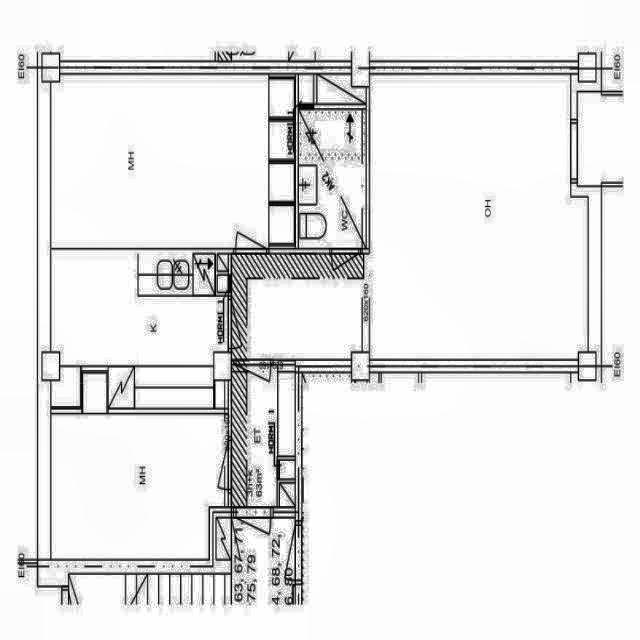room: (51, 75, 295, 409), (51, 413, 229, 559), (298, 74, 366, 248), (231, 366, 295, 508)
